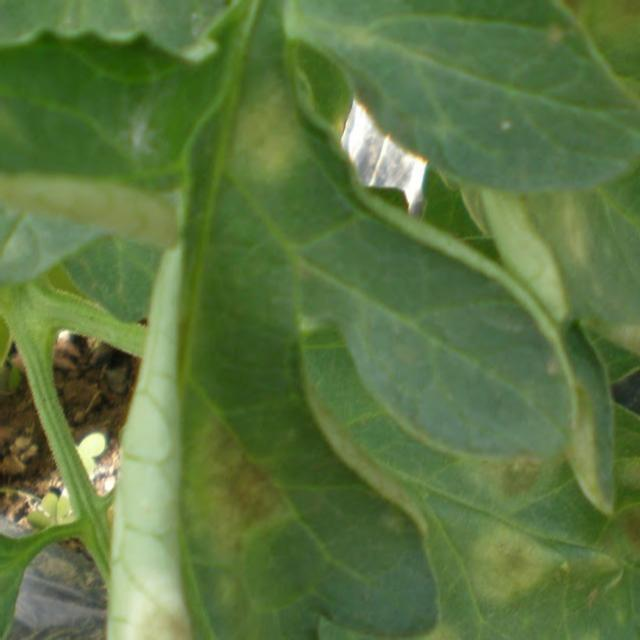Tomato mold leaf: (255, 0, 640, 501), (92, 121, 404, 640), (332, 265, 640, 640), (0, 0, 228, 80)
